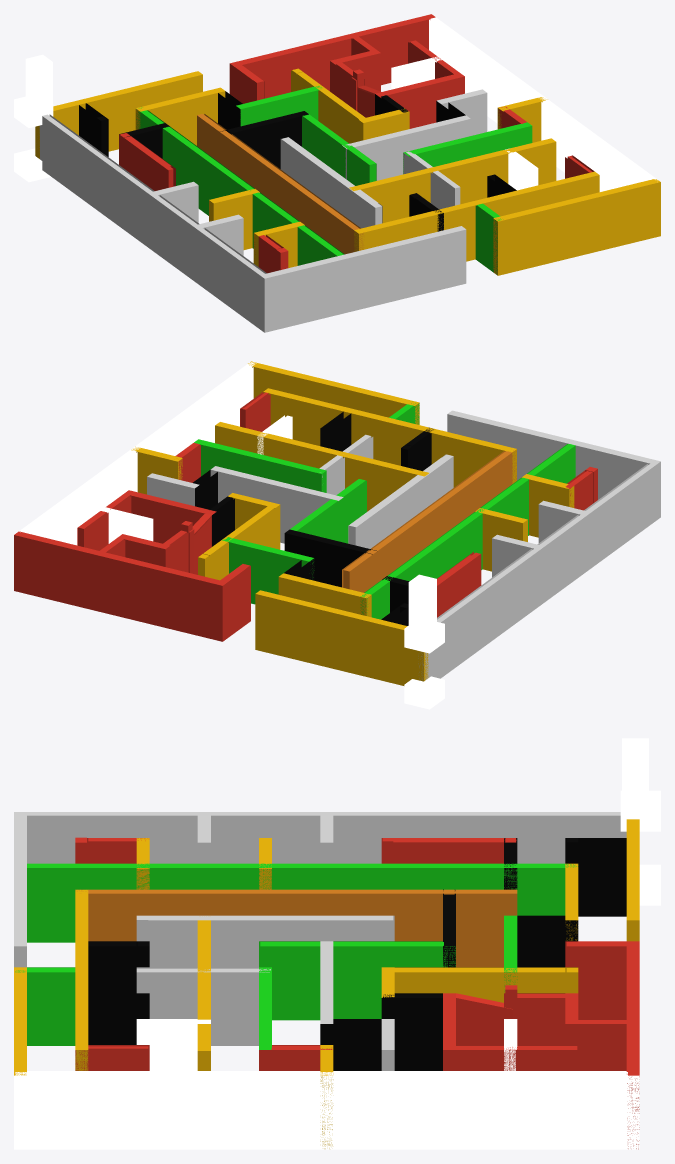
Rendered from floor.gltf.
The picture shows the model from 3 angles, top to bottom: view 1: azimuth 30°, elevation 25°; view 2: azimuth 150°, elevation 25°; view 3: azimuth 270°, elevation 25°; orthographic projection. The views are drawn at different scales.
Visible parts, largest first — view 1: Curve.045; view 2: Curve.045; view 3: Curve.045.
Boxes of the visible parts, bbox=[...] form: Curve.045: bbox=[14, 14, 660, 332]; Curve.045: bbox=[14, 361, 660, 709]; Curve.045: bbox=[14, 738, 660, 1149].
Size of the model in its own units: 47.53 by 12.65 by 47.63.
